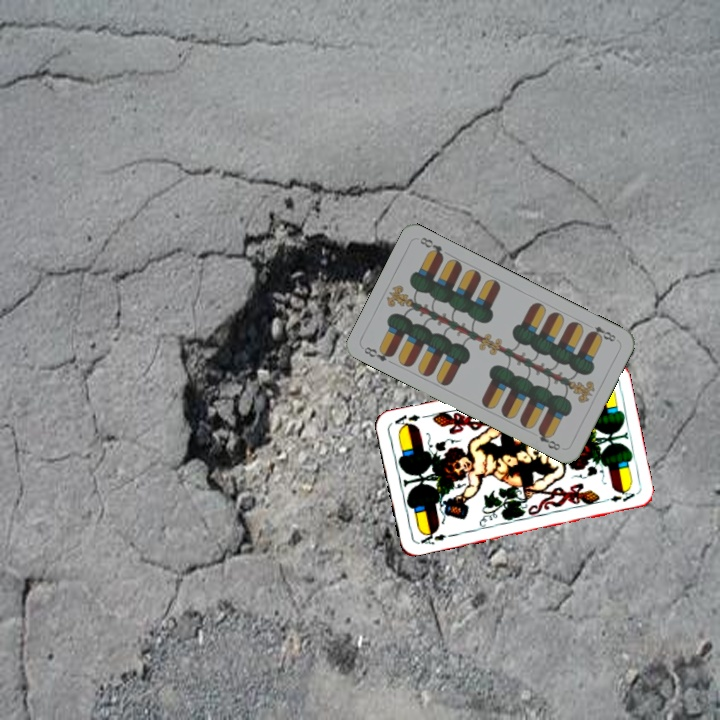E8: (360, 343, 397, 364), (585, 322, 618, 344)
EA: (414, 527, 448, 547)
